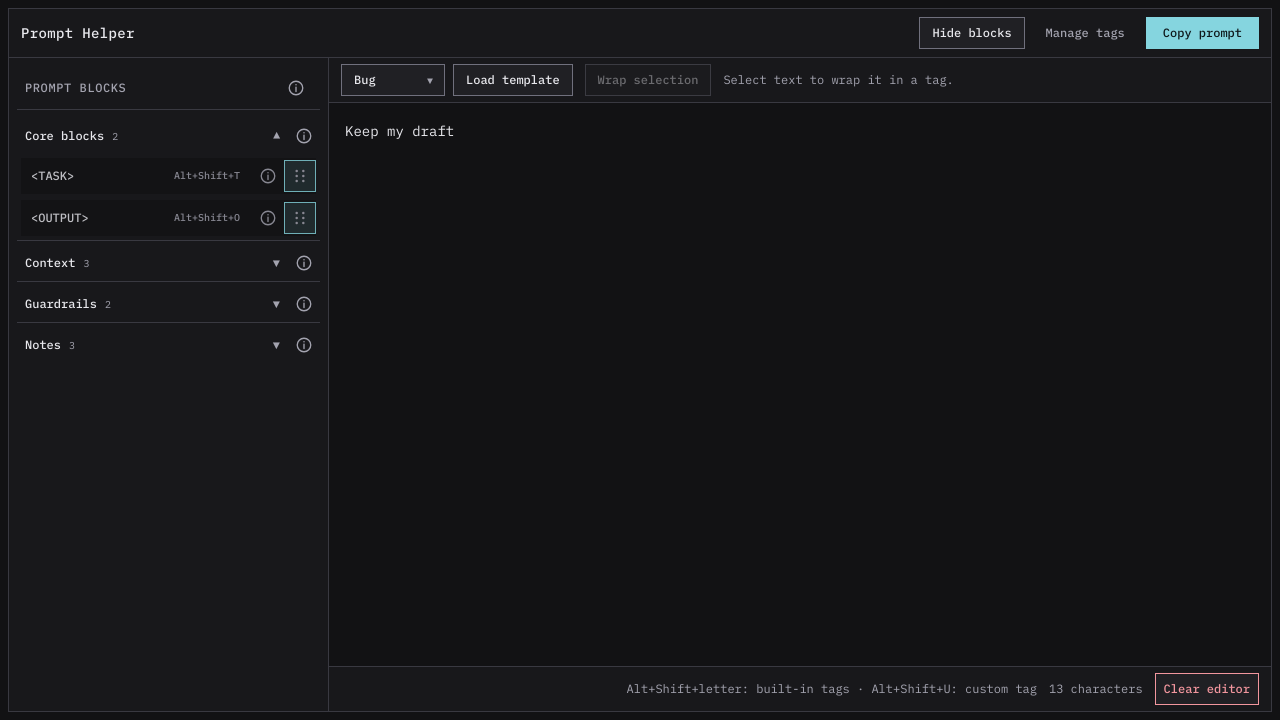
Test case: Prompt Helper › preserves the saved prompt when Feature replacement is dismissed with escape
Select "Feature" in the dropdown named "Prompt template": (393, 80) [341,64,445,96]
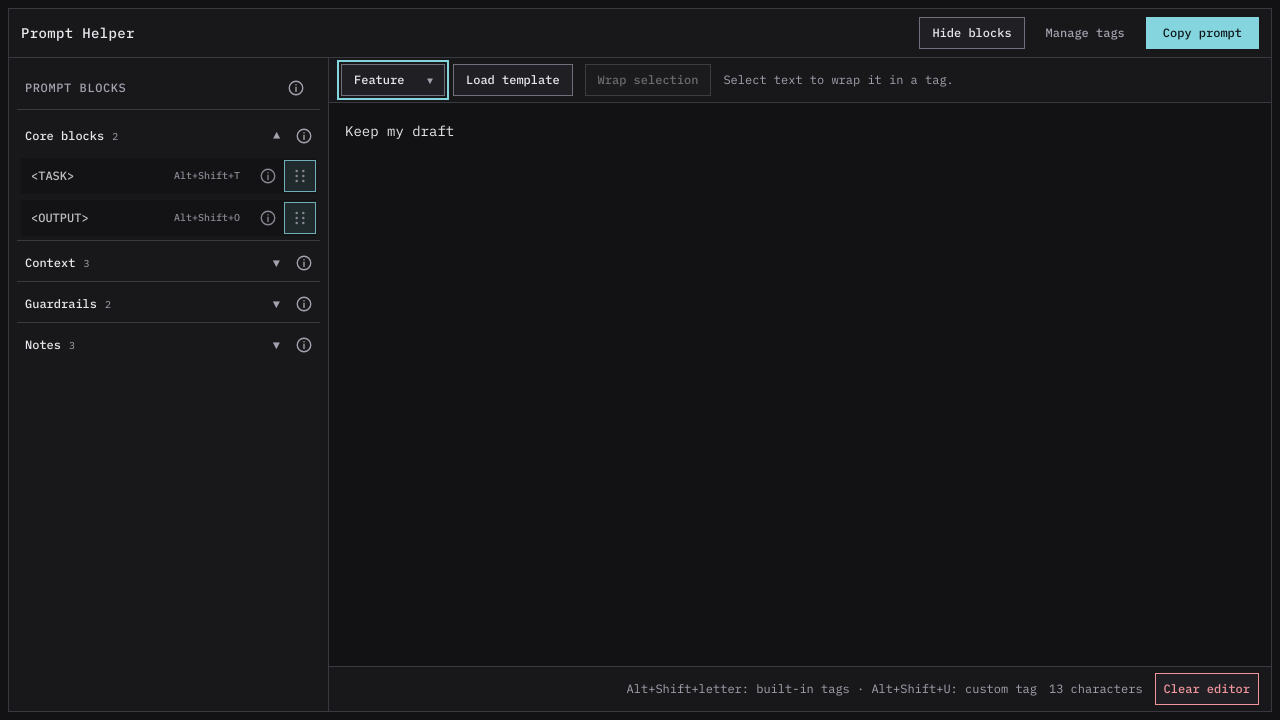
Click the button "Load template": (513, 80) [453,64,573,96]
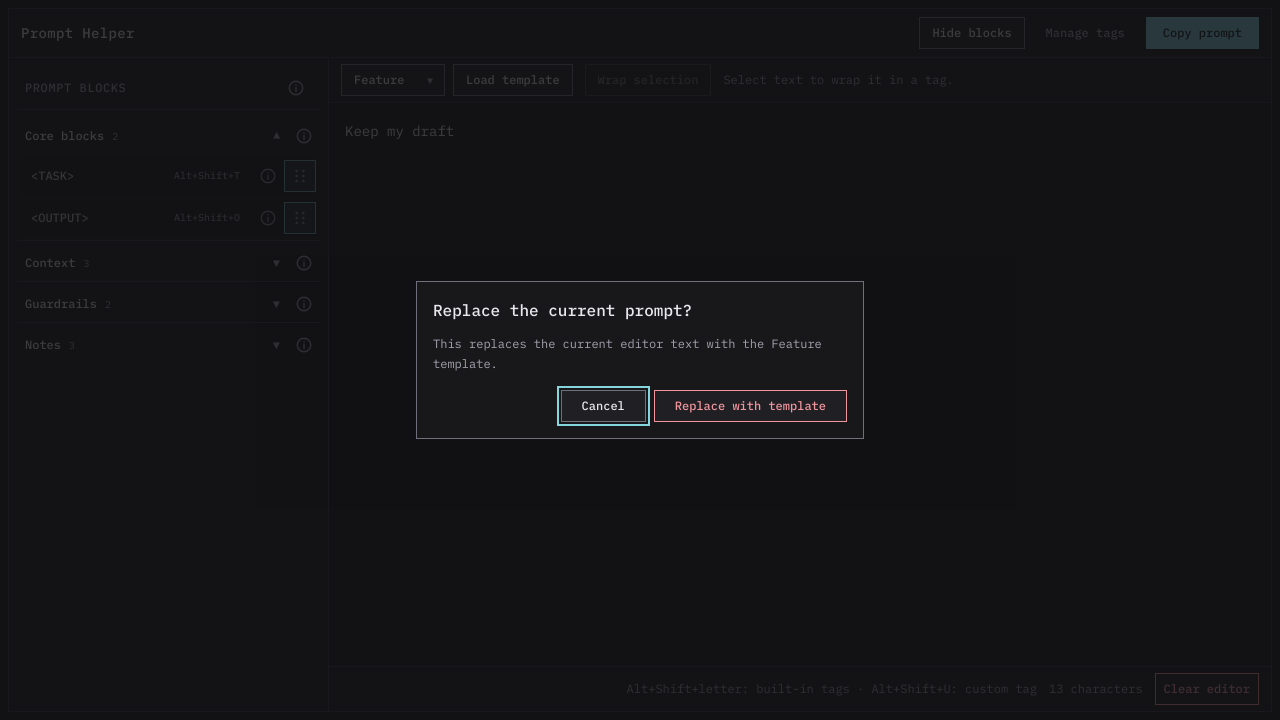
Check: the text box named "Prompt editor" holds "Keep my draft", box [329,103,1271,666]
Type keys "{Alt>}{Shift>}[KeyT]{/Shift}{/Alt}"
Check: the text box named "Prompt editor" holds "Keep my draft", box [329,103,1271,666]
Press Escape
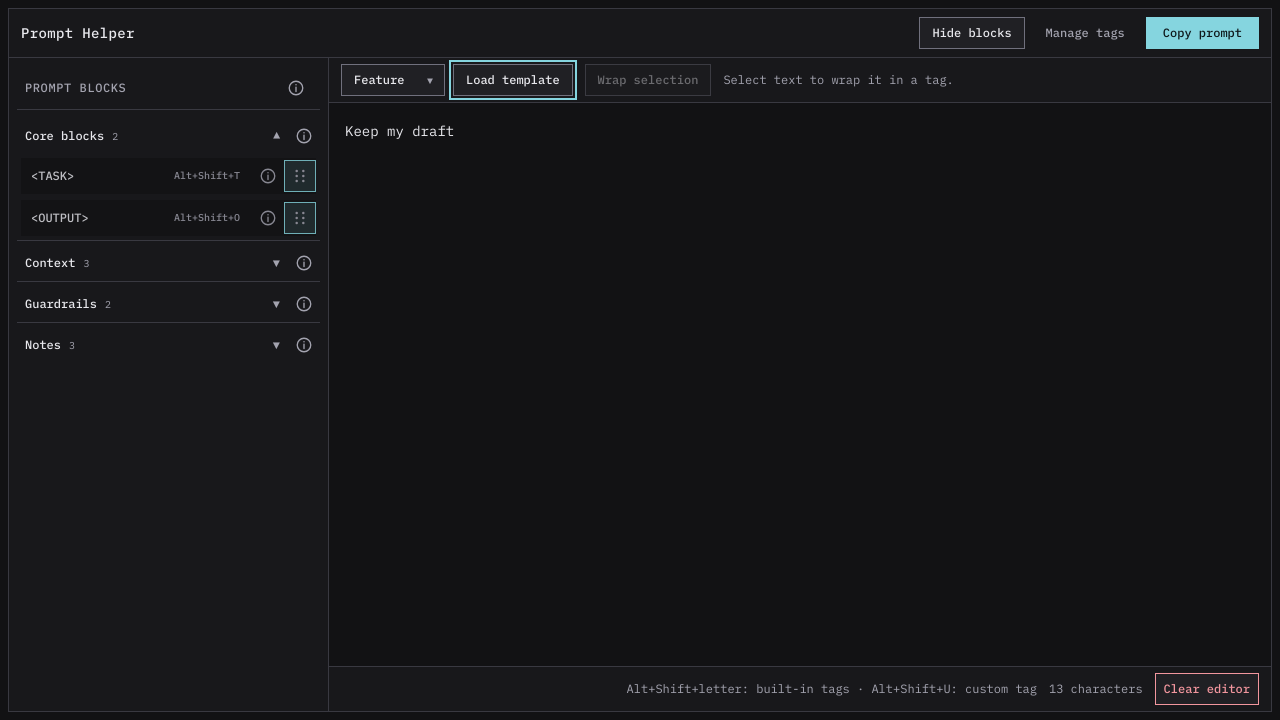
Check: the text box named "Prompt editor" holds "Keep my draft", box [329,103,1271,666]
Check: the heading "Replace the current prompt?" is gone
